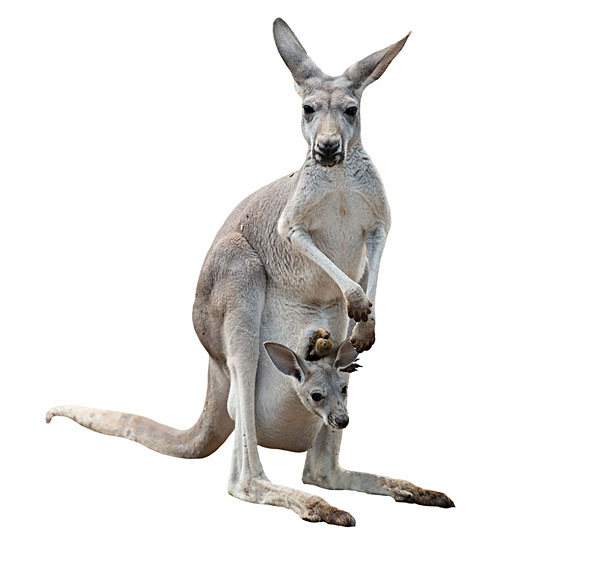kangaroo: (43, 11, 460, 529), (263, 324, 368, 434)
